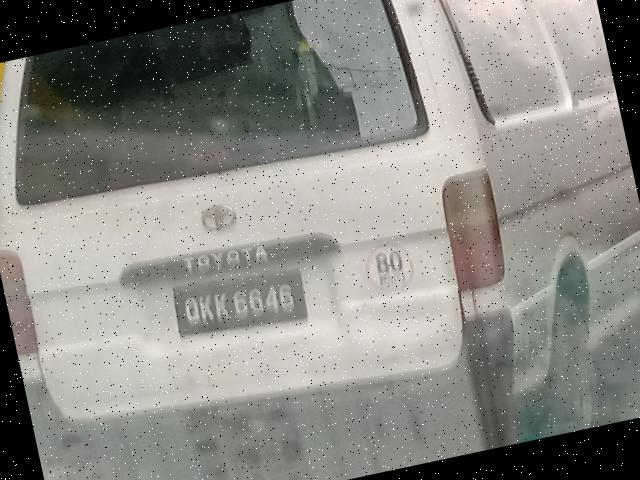License_Plate: (170, 260, 314, 348)
van: (1, 1, 640, 480)
